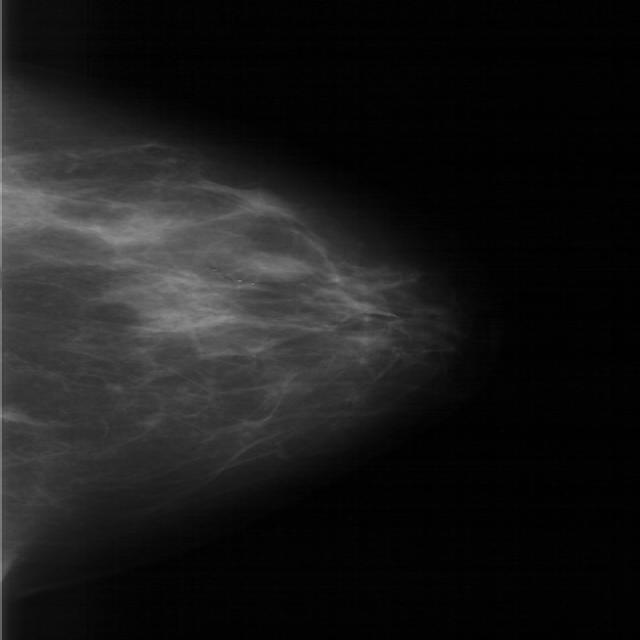tumour: (230, 251, 308, 279)
